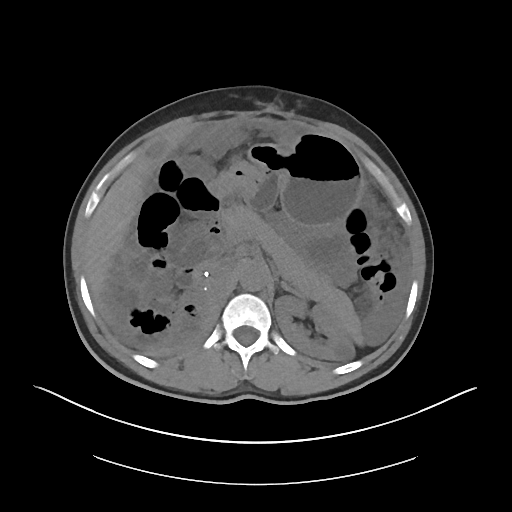Lesion: (330, 336, 358, 363)
